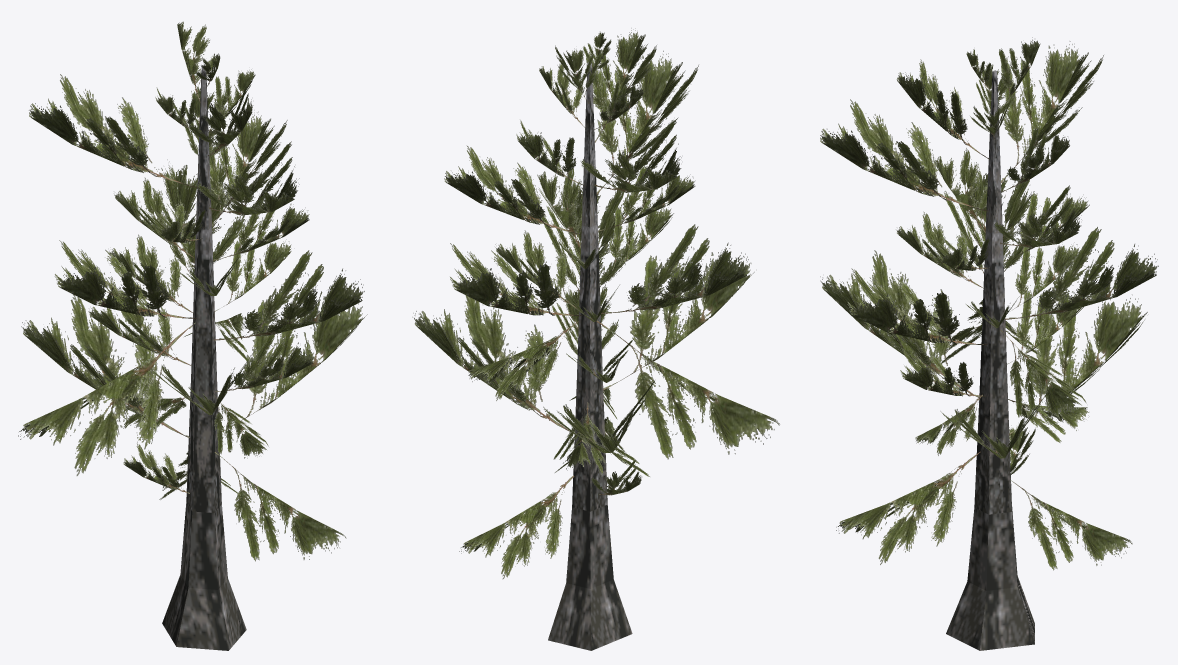
Rendered from pineTreeSmall.fbx.
3 renders of one model, left to right at view 1: azimuth 30°, elevation 25°; view 2: azimuth 150°, elevation 25°; view 3: azimuth 270°, elevation 25°, orthographic.
Parts seen in each view (by area): view 1: smallPine; view 2: smallPine; view 3: smallPine.
Part boxes in pixels (<box>): smallPine: <box>18,21,367,650</box>; smallPine: <box>412,28,779,650</box>; smallPine: <box>820,37,1158,650</box>.
Bounding box in the file's own units: 491 × 409 × 776.
2 materials, 2 textured.
